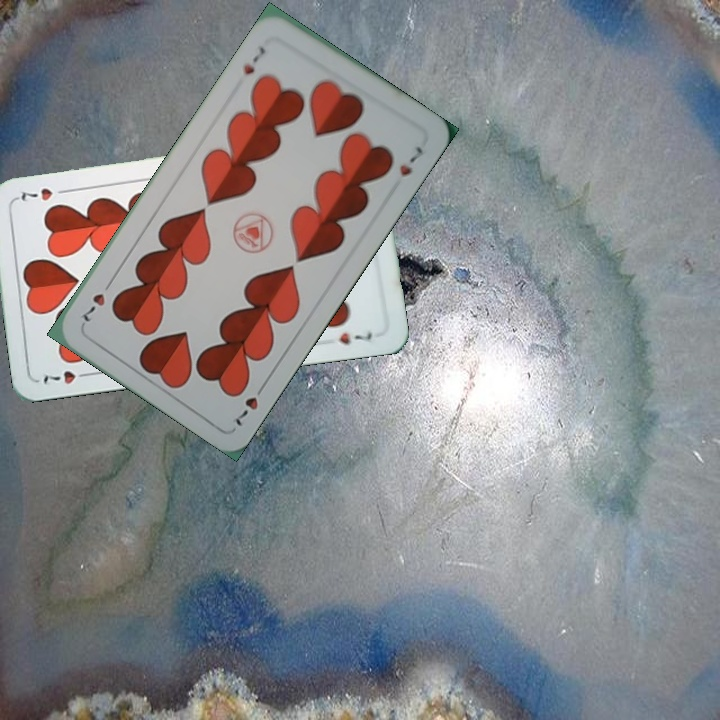H7: (231, 378, 269, 429), (39, 366, 95, 388), (239, 42, 269, 78)
